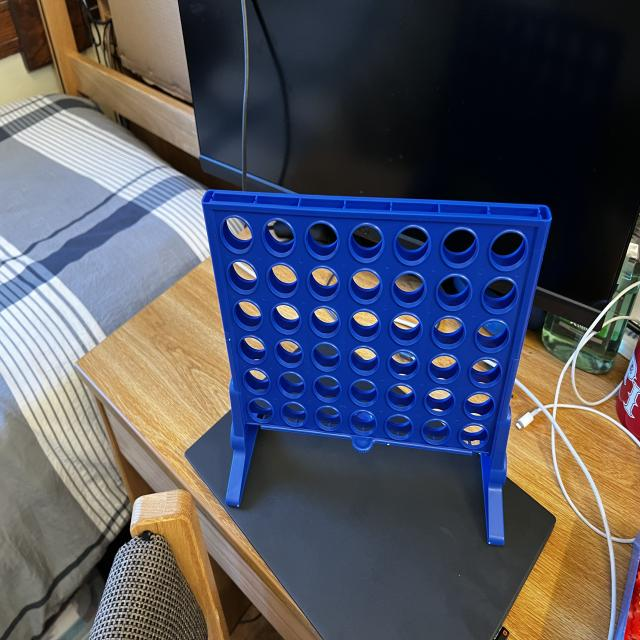Board: (202, 184, 551, 465)
